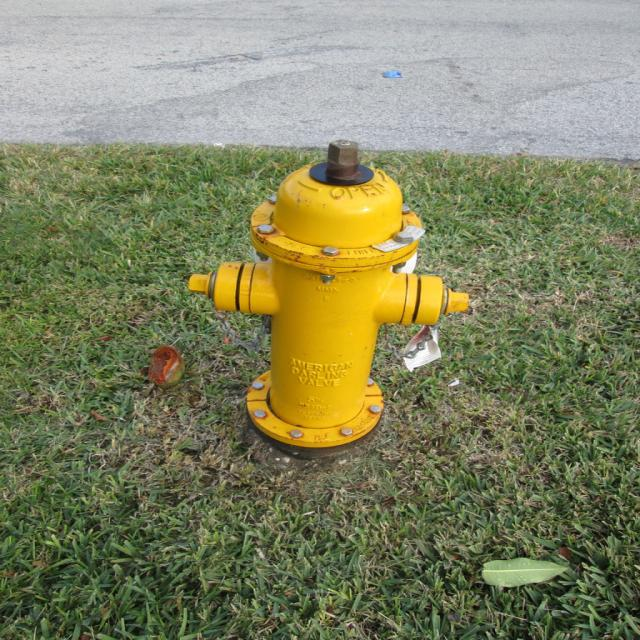fire_hydrant: (188, 138, 471, 459)
